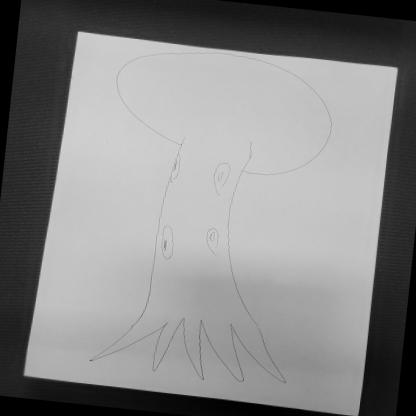crown_mushroom: (110, 43, 336, 181)
knot: (212, 162, 231, 195), (158, 224, 174, 260), (202, 226, 221, 256), (171, 153, 180, 181)
root_only: (92, 296, 293, 387)
trunk_reflex: (148, 164, 254, 295)
